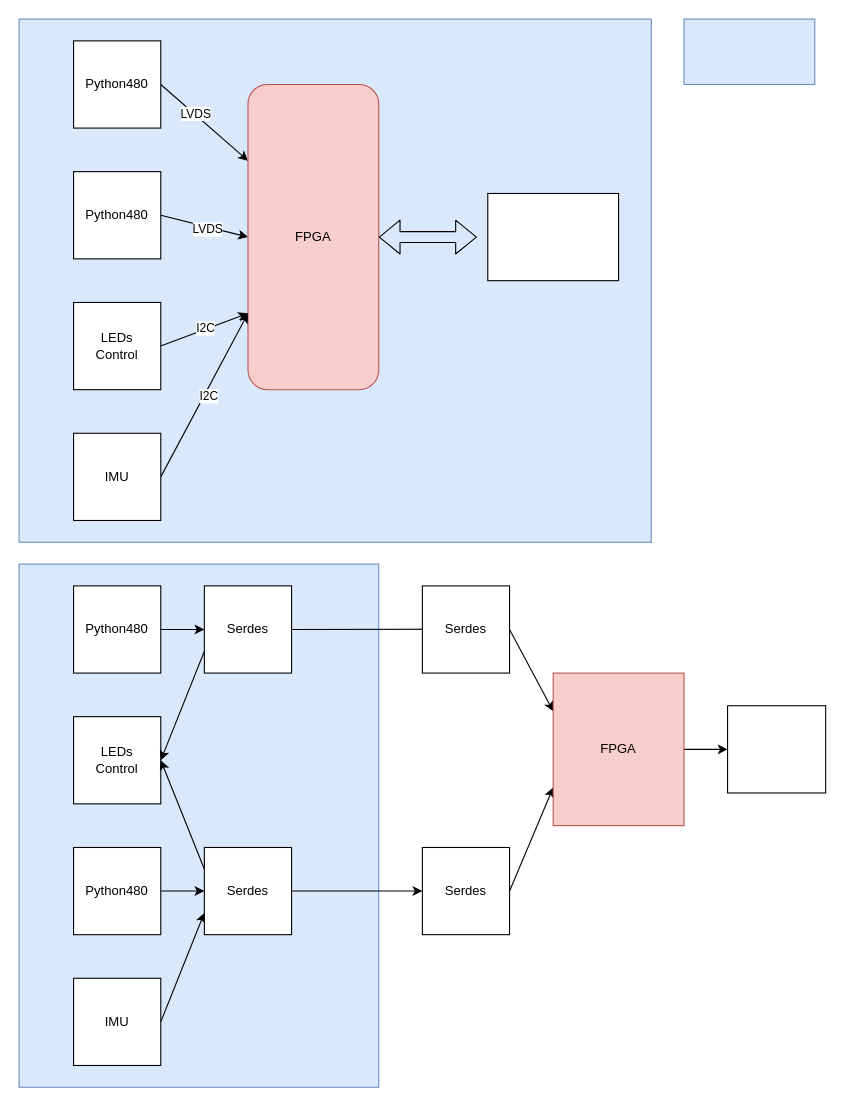
Image size: 845x1106. Some labels were removed from this diagram. The shapes that lost their labels are listed below. From the top down, each one's box as (x1, y1, x2, y2) in pixels, then its label:
(683, 18, 815, 84): Inside Commutator
(487, 192, 619, 281): USB3 FIFO and Phy
(726, 705, 826, 793): FT602 UVC USB3
